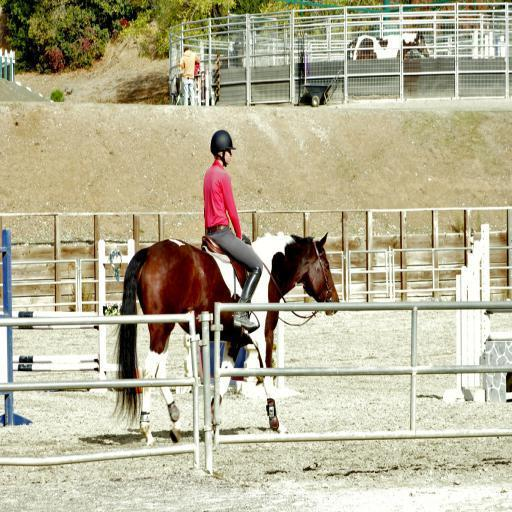horse: (108, 232, 338, 446), (347, 30, 429, 60)
